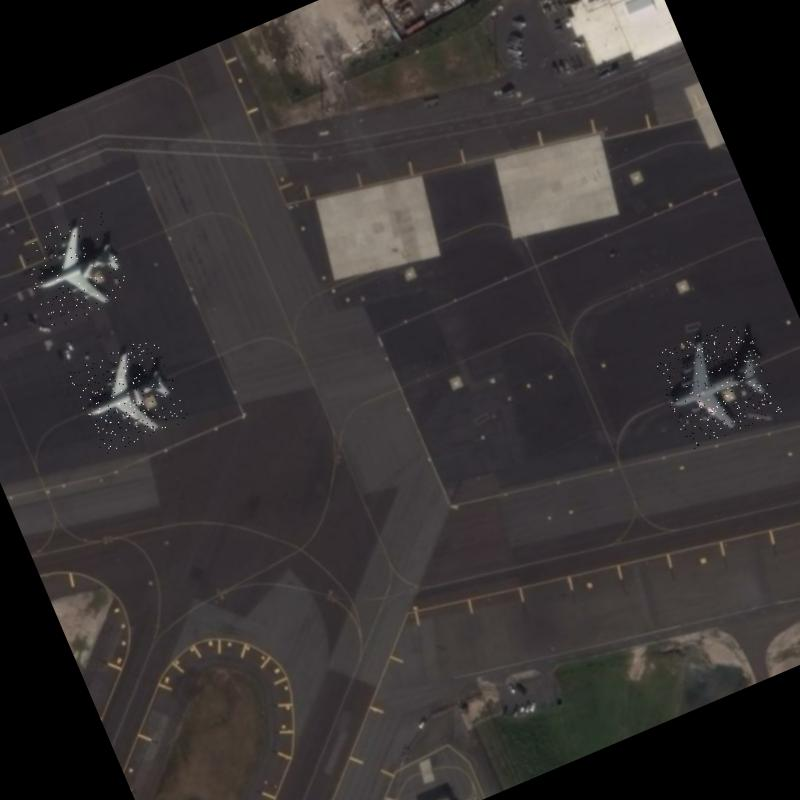A3: (649, 316, 783, 451)
A7: (68, 335, 190, 456), (16, 208, 136, 330)
